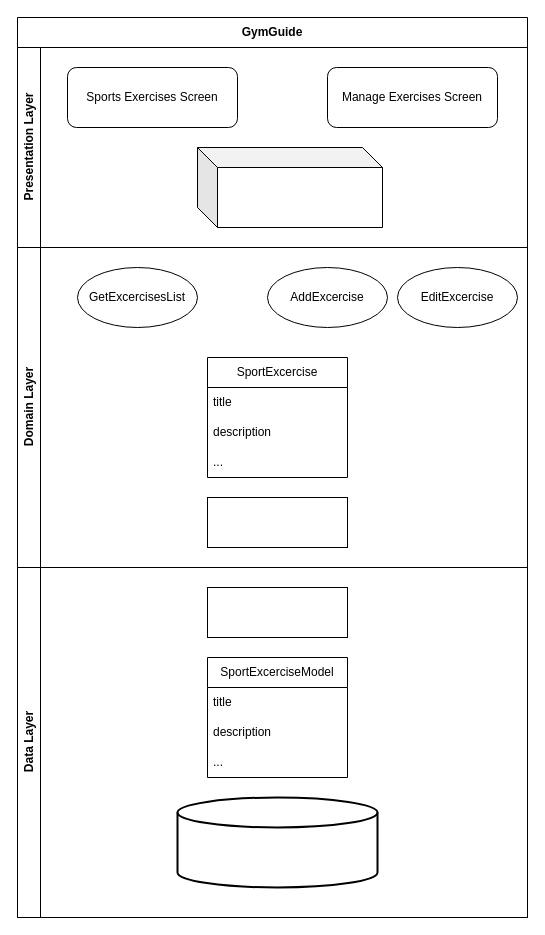
This 545x935 diagram has some shape labels left out. Each missing label, with the centre of its shape:
ISportExcercisesRepo: the point at 277,522
ManageExcercisesCubit: the point at 289,187
SportExcercisesRepo: the point at 277,612
SQLite Local Storage (sqflite): the point at 277,842
